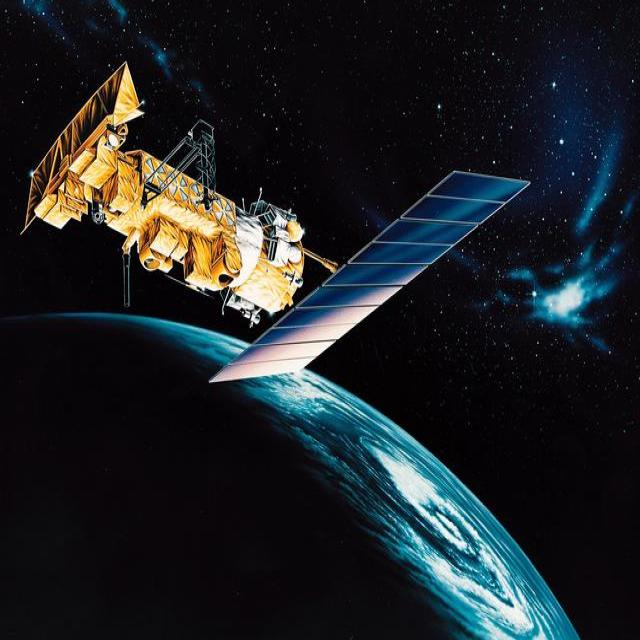medium_debris: (25, 63, 529, 380)
